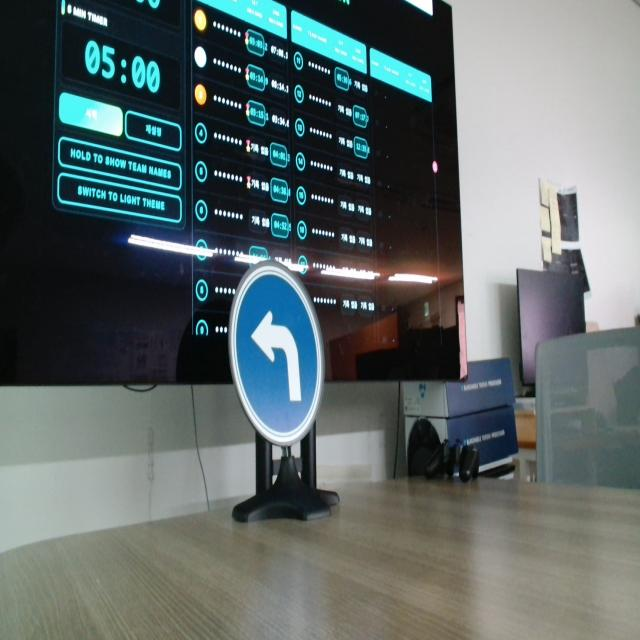left_direction: (214, 238, 338, 455)
